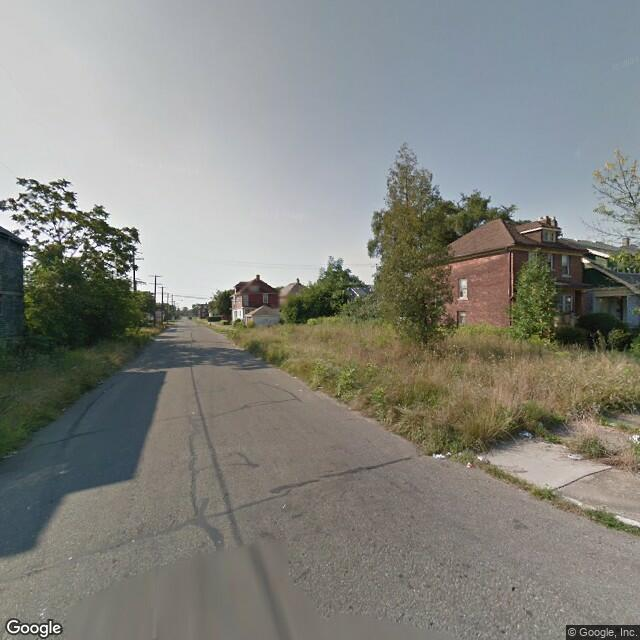litter: (518, 431, 538, 441), (569, 453, 590, 462), (480, 450, 489, 463), (432, 453, 448, 459), (464, 459, 472, 466)
